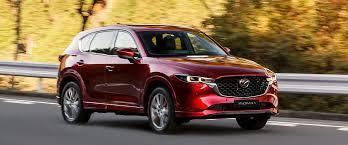mazda: (237, 74, 249, 89)
